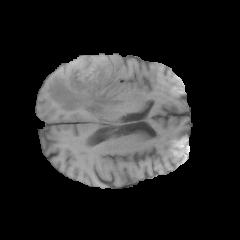glioma: (49, 55, 122, 113)
